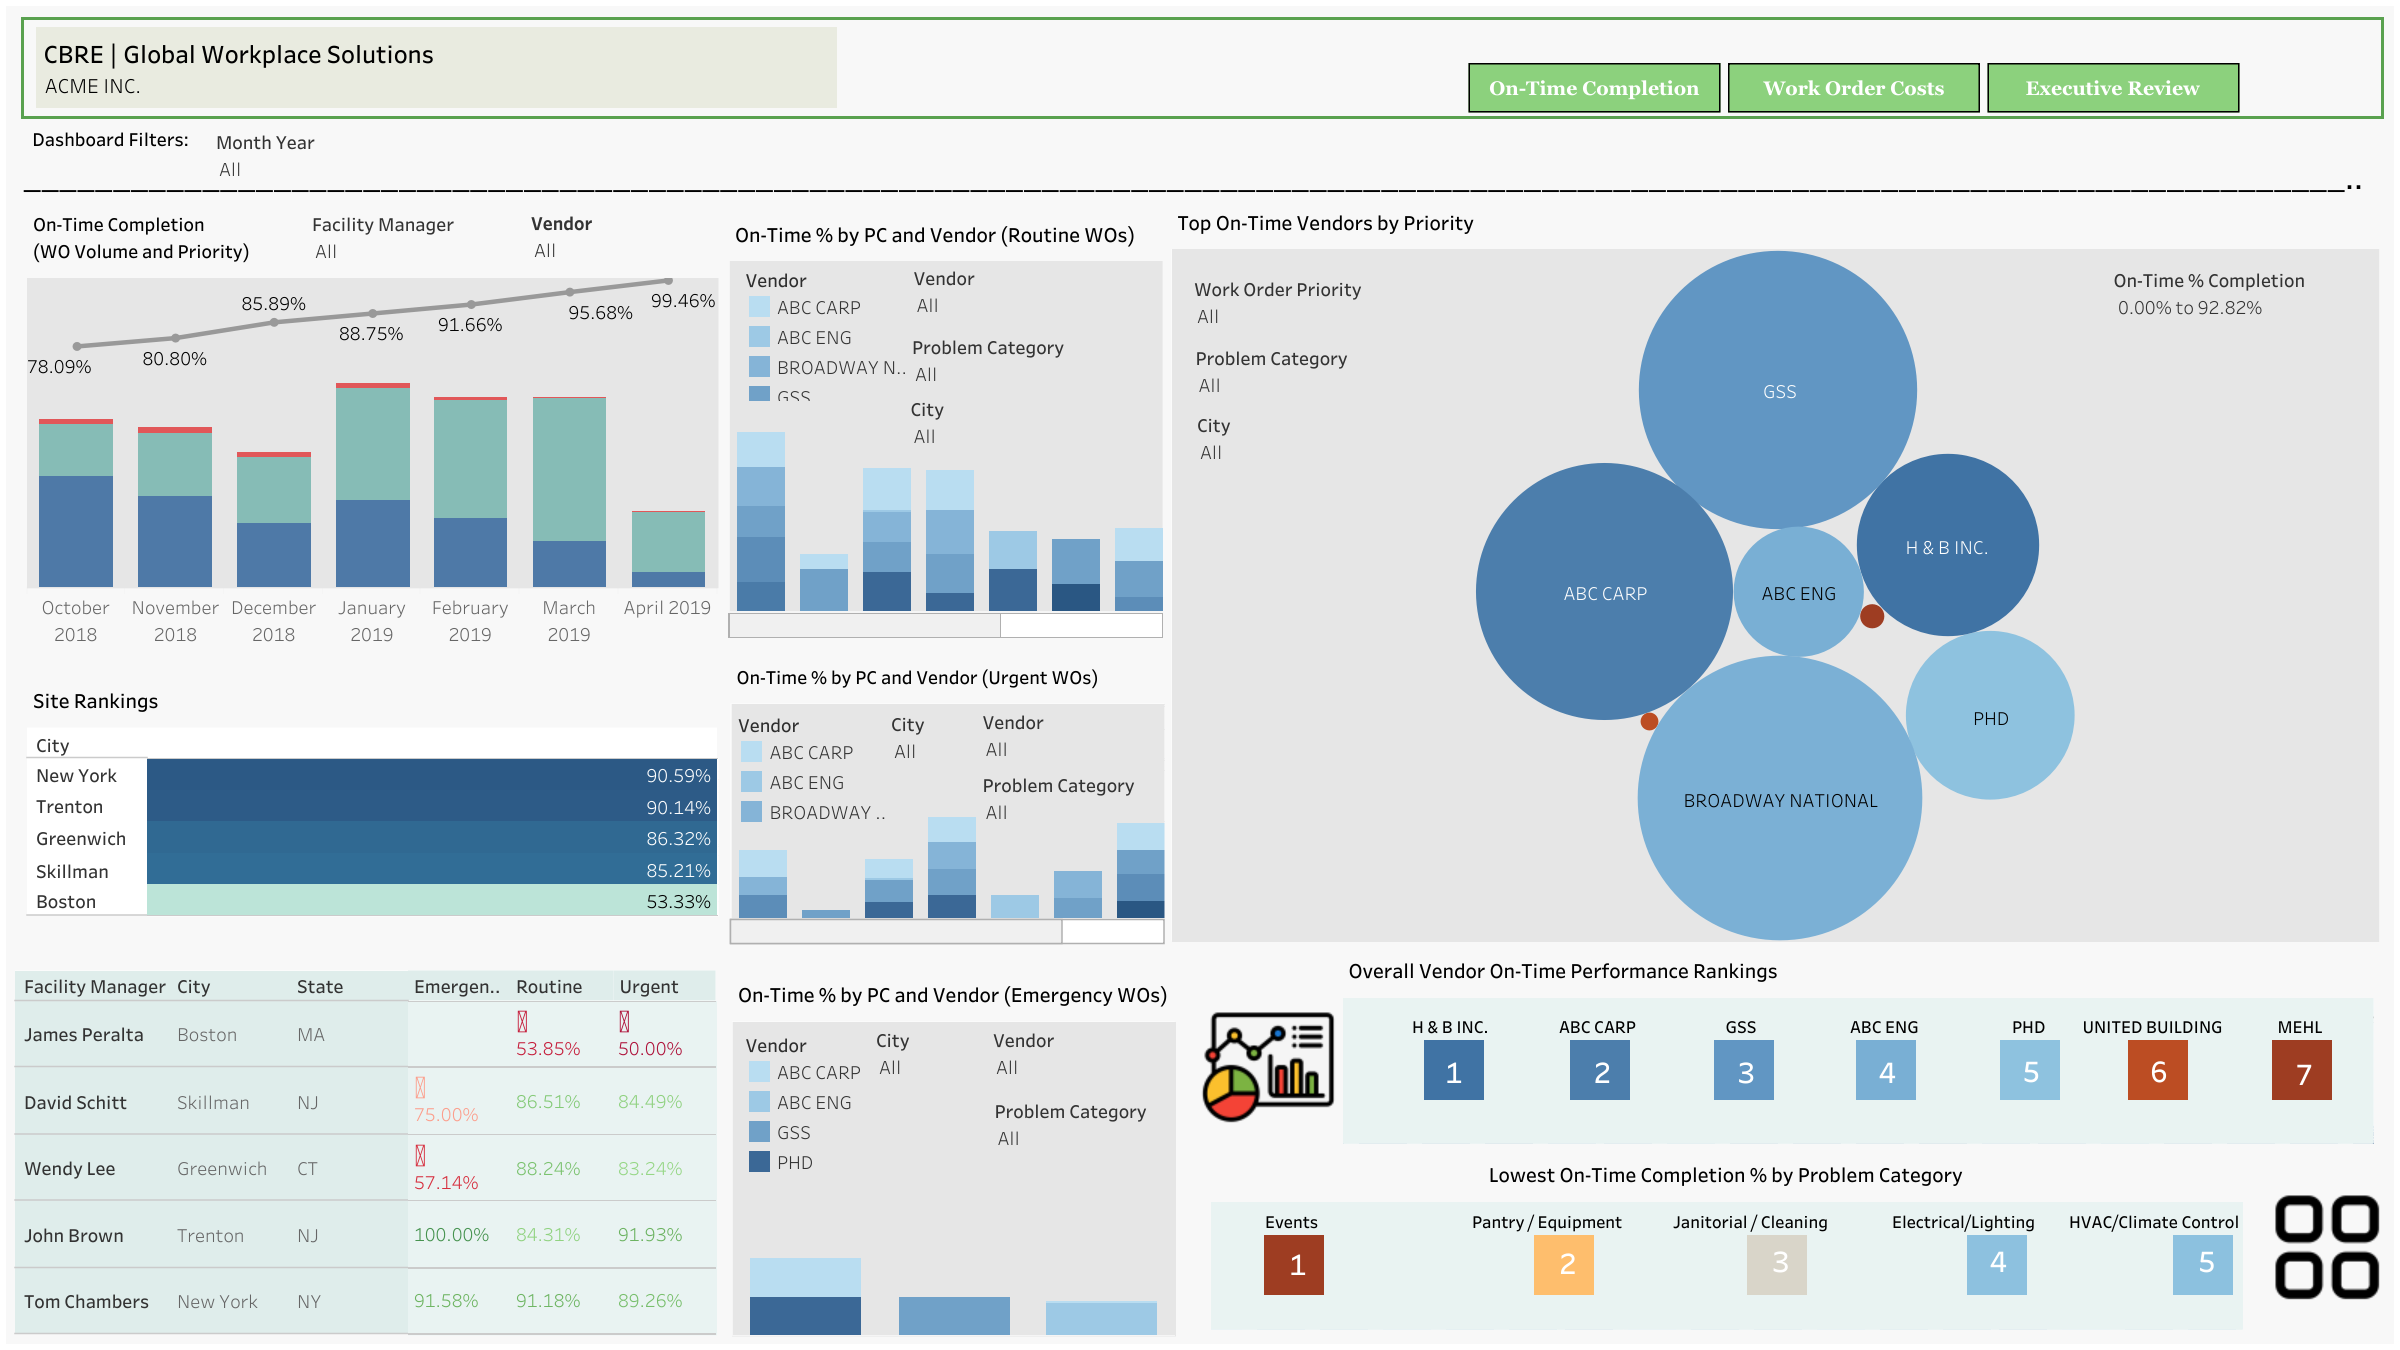

What the dashboard file says about the page in this screenshot:
{"tool":"tableau","page":{"name":"On-Time Analysis","canvas":[1600,900],"ordinal":1},"visuals":[{"type":"blank","box":[0,0,1600,900]},{"type":"text","box":[14,11,1575,69]},{"type":"blank","box":[24,18,534.4,54]},{"type":"dashboard-object","box":[979.2,41.6,168,33.8]},{"type":"dashboard-object","box":[1152,41.6,168,33.8]},{"type":"dashboard-object","box":[1324.8,41.6,168,33.8]},{"type":"text","box":[19.2,75.4,176,33.8]},{"type":"filter","title":"On-Time (M-O-M) Overview","param":"[federated.10plz2p0urz7om14d5ykq0hs0hhh].[my:Calculation_14707101945446400:ok]","box":[144,84,131,55]},{"type":"text","box":[13,101,1571,33]},{"type":"worksheet","title":"Vendor Performance by Priority","mark":"Circle","box":[781,132,804,495]},{"type":"worksheet","title":"On-Time (M-O-M) Overview","mark":"Bar","rows":["Calculation_1125933994991678","Calculation_1125933997027391"],"cols":["Calculation_14707101945446400"],"box":[18,134,460,297]},{"type":"worksheet","title":"On-Time PC Routine","mark":"Automatic","rows":["Calculation_1125933994991678"],"cols":["Calculation_14355258390188033"],"box":[482,136,297,294]},{"type":"filter","title":"On-Time (M-O-M) Overview","param":"[federated.10plz2p0urz7om14d5ykq0hs0hhh].[none:Vendor:nk]","box":[354,138,121,55]},{"type":"filter","title":"On-Time (M-O-M) Overview","param":"[federated.10plz2p0urz7om14d5ykq0hs0hhh].[none:FM:nk]","box":[208,139,126,52]},{"type":"legend","title":"On-Time PC Routine","param":"[federated.10plz2p0urz7om14d5ykq0hs0hhh].[none:Vendor:nk]","box":[496,175,109,92]},{"type":"filter","title":"On-Time PC Routine","param":"[federated.10plz2p0urz7om14d5ykq0hs0hhh].[none:Vendor:nk]","box":[609,175,160,48]},{"type":"filter","title":"Vendor Performance by Priority","param":"[federated.10plz2p0urz7om14d5ykq0hs0hhh].[usr:Calculation_1125933994991678:qk]","box":[1409,176,160,62]},{"type":"filter","title":"Vendor Performance by Priority","param":"[federated.10plz2p0urz7om14d5ykq0hs0hhh].[none:Work Order Priority:nk]","box":[796,182,160,105]},{"type":"legend","title":"Vendor Performance by Priority","param":"[federated.10plz2p0urz7om14d5ykq0hs0hhh].[cnt:Ticket ID:qk]","box":[645,185,4,20]},{"type":"filter","title":"On-Time PC Routine","param":"[federated.10plz2p0urz7om14d5ykq0hs0hhh].[none:Calculation_14355258390188033:nk]","box":[608,221,160,48]},{"type":"filter","title":"Vendor Performance by Priority","param":"[federated.10plz2p0urz7om14d5ykq0hs0hhh].[none:Calculation_14355258390188033:nk]","box":[797,228,160,52]},{"type":"filter","title":"On-Time PC Routine","param":"[federated.10plz2p0urz7om14d5ykq0hs0hhh].[none:City:nk]","box":[607,262,159,46]},{"type":"filter","title":"Vendor Performance by Priority","param":"[federated.10plz2p0urz7om14d5ykq0hs0hhh].[none:City:nk]","box":[798,273,159,53]},{"type":"worksheet","title":"On-Time PC Urgent","mark":"Automatic","rows":["Calculation_1125933994991678"],"cols":["Calculation_14355258390188033"],"box":[487,436,289,194]},{"type":"worksheet","title":"Site Rankings","mark":"Square","rows":["City"],"box":[18,451,461,161]},{"type":"filter","title":"On-Time PC Urgent","param":"[federated.10plz2p0urz7om14d5ykq0hs0hhh].[none:Vendor:nk]","box":[655,471,116,41]},{"type":"legend","title":"On-Time PC Urgent","param":"[federated.10plz2p0urz7om14d5ykq0hs0hhh].[none:Vendor:nk]","box":[491,472,104,80]},{"type":"filter","title":"On-Time PC Urgent","param":"[federated.10plz2p0urz7om14d5ykq0hs0hhh].[none:City:nk]","box":[594,472,61,48]},{"type":"filter","title":"On-Time PC Urgent","param":"[federated.10plz2p0urz7om14d5ykq0hs0hhh].[none:Calculation_14355258390188033:nk]","box":[655,513,120,45]},{"type":"worksheet","title":"Vendor Performance Rankings","mark":"Square","cols":["Vendor","Calculation_1125933994991678"],"box":[895,631,686,130]},{"type":"worksheet","title":"On-Time by Urgency and Site","mark":"Text","rows":["FM","City","State"],"cols":["Work Order Priority"],"box":[10,647,468,243]},{"type":"worksheet","title":"On-Time PC Emergency","mark":"Automatic","rows":["Calculation_1125933994991678"],"cols":["Calculation_14355258390188033"],"box":[488,647,295,243]},{"type":"image","param":"Image/dashboard.png","box":[799,665,99,93]},{"type":"filter","title":"On-Time PC Emergency","param":"[federated.10plz2p0urz7om14d5ykq0hs0hhh].[none:City:nk]","box":[584,683,79,46]},{"type":"filter","title":"On-Time PC Emergency","param":"[federated.10plz2p0urz7om14d5ykq0hs0hhh].[none:Vendor:nk]","box":[662,683,115,48]},{"type":"legend","title":"On-Time PC Emergency","param":"[federated.10plz2p0urz7om14d5ykq0hs0hhh].[none:Vendor:nk]","box":[496,685,140,99]},{"type":"text","box":[1346,698,25,30]},{"type":"text","box":[1431,698,25,30]},{"type":"text","box":[961,699,25,30]},{"type":"text","box":[1060,699,25,30]},{"type":"text","box":[1156,699,25,30]},{"type":"text","box":[1250,699,25,30]},{"type":"text","box":[1528,700,25,30]},{"type":"filter","title":"On-Time PC Emergency","param":"[federated.10plz2p0urz7om14d5ykq0hs0hhh].[none:Calculation_14355258390188033:nk]","box":[663,730,115,48]},{"type":"worksheet","title":"Problem Category On-Time Rankings","mark":"Square","cols":["Calculation_14355258390188033","Calculation_1125933994991678"],"box":[807,767,687,118]},{"type":"image","param":"Image/dashboards.png","box":[1514,794,86,75]},{"type":"text","box":[1179,825,25,30]},{"type":"text","box":[1324,825,25,30]},{"type":"text","box":[1463,825,25,30]},{"type":"text","box":[1037,826,25,30]},{"type":"text","box":[857,827,25,30]}]}

Visuals, with their boxes in screenshot pixels (x1, y1, x2, y2), scaled from the page's 1600x900 canvas onto the 2400x1350 screenshot:
blank: 0 0 2399 1349
text: 21 16 2384 120
blank: 36 27 838 108
dashboard-object: 1469 62 1721 113
dashboard-object: 1728 62 1980 113
dashboard-object: 1987 62 2239 113
text: 29 113 293 164
"On-Time (M-O-M) Overview" filter: 216 126 412 208
text: 20 152 2376 201
"Vendor Performance by Priority" worksheet (Circle marks): 1172 198 2378 940
"On-Time (M-O-M) Overview" worksheet (Bar marks): 27 201 717 646
"On-Time PC Routine" worksheet: 723 204 1168 645
"On-Time (M-O-M) Overview" filter: 531 207 712 290
"On-Time (M-O-M) Overview" filter: 312 208 501 286
"On-Time PC Routine" legend: 744 262 908 400
"On-Time PC Routine" filter: 914 262 1154 334
"Vendor Performance by Priority" filter: 2114 264 2354 357
"Vendor Performance by Priority" filter: 1194 273 1434 430
"Vendor Performance by Priority" legend: 968 278 974 308
"On-Time PC Routine" filter: 912 332 1152 404
"Vendor Performance by Priority" filter: 1196 342 1436 420
"On-Time PC Routine" filter: 910 393 1149 462
"Vendor Performance by Priority" filter: 1197 410 1436 489
"On-Time PC Urgent" worksheet: 730 654 1164 945
"Site Rankings" worksheet (Square marks): 27 676 718 918
"On-Time PC Urgent" filter: 982 706 1156 768
"On-Time PC Urgent" legend: 736 708 892 828
"On-Time PC Urgent" filter: 891 708 982 780
"On-Time PC Urgent" filter: 982 770 1162 837
"Vendor Performance Rankings" worksheet (Square marks): 1342 946 2372 1142
"On-Time by Urgency and Site" worksheet (Text marks): 15 970 717 1335
"On-Time PC Emergency" worksheet: 732 970 1174 1335
image: 1198 998 1347 1137
"On-Time PC Emergency" filter: 876 1024 994 1094
"On-Time PC Emergency" filter: 993 1024 1166 1096
"On-Time PC Emergency" legend: 744 1028 954 1176
text: 2019 1047 2056 1092
text: 2146 1047 2184 1092
text: 1442 1048 1479 1094
text: 1590 1048 1628 1094
text: 1734 1048 1772 1094
text: 1875 1048 1912 1094
text: 2292 1050 2330 1095
"On-Time PC Emergency" filter: 994 1095 1167 1167
"Problem Category On-Time Rankings" worksheet (Square marks): 1210 1150 2241 1328
image: 2271 1191 2399 1304
text: 1768 1238 1806 1282
text: 1986 1238 2024 1282
text: 2194 1238 2232 1282
text: 1556 1239 1593 1284
text: 1286 1240 1323 1286
